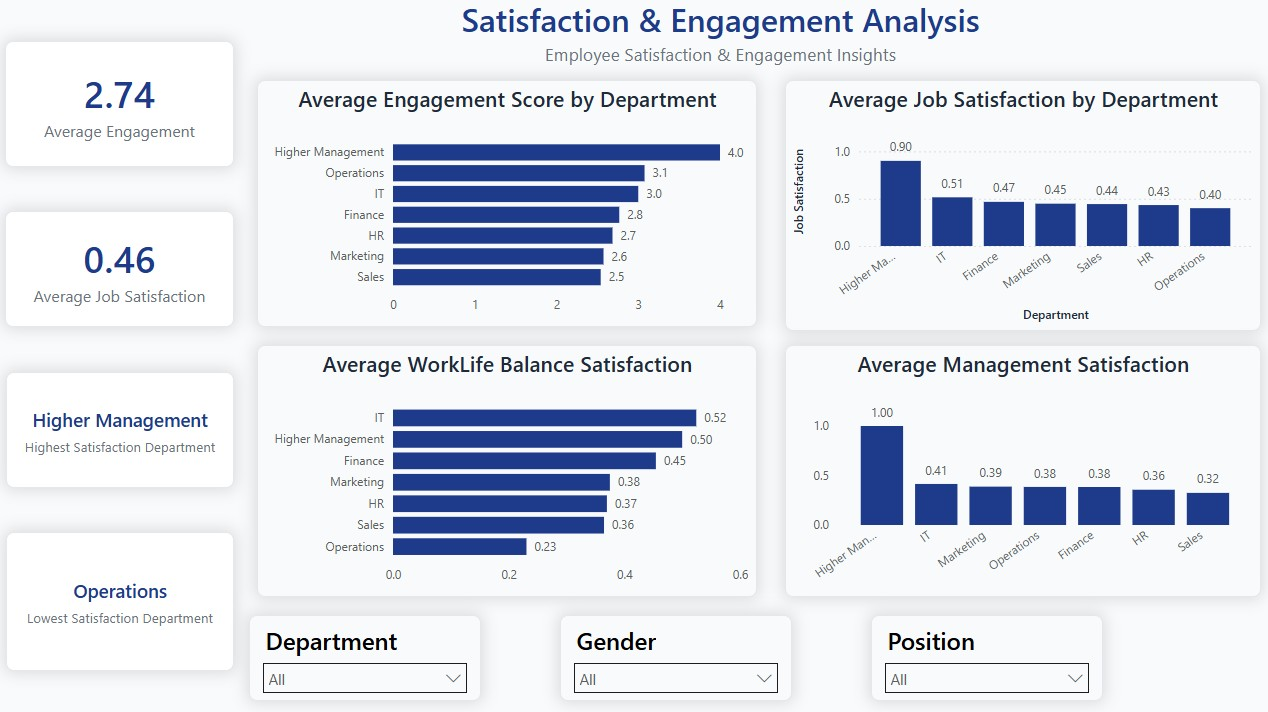

What the dashboard file says about the page in this screenshot:
{"tool":"powerbi","page":{"name":"Satisfaction & Engagement Analysis","canvas":[1280,720],"ordinal":3},"visuals":[{"type":"textbox","title":"Satisfaction & Engagement Analysis","box":[434,0,584,91],"z":0},{"type":"card","fields":{"Values":["hr_data_cleaned.Average Engagement"]},"box":[10,44,229,126],"z":1000},{"type":"card","fields":{"Values":["hr_data_cleaned.Average Job Satisfaction"]},"box":[10,214.3,229,116],"z":2000},{"type":"card","fields":{"Values":["hr_data_cleaned.Highest JobSatisfaction"]},"box":[11,374.7,228,116],"z":3000},{"type":"card","fields":{"Values":["hr_data_cleaned.Lowest Satisfaction Department"]},"box":[11,535,228,139],"z":4000},{"type":"clusteredBarChart","title":"Average Engagement Score by Department","fields":{"Category":["hr_analytics hr_data_cleaned.Department"],"Y":["hr_data_cleaned.Average Engagement"]},"box":[262,83,500,247],"z":5000},{"type":"clusteredColumnChart","title":"Average Job Satisfaction by Department","fields":{"Category":["hr_data_cleaned.Department"],"Y":["hr_data_cleaned.Average Job Satisfaction"]},"box":[790,83,476,251],"z":6000},{"type":"clusteredBarChart","title":"Average WorkLife Balance Satisfaction","fields":{"Category":["hr_data_cleaned.Department"],"Y":["hr_data_cleaned.Average WorkLife Satisfaction"]},"box":[262,348,500,252],"z":7000},{"type":"clusteredColumnChart","title":"Average Management Satisfaction","fields":{"Category":["hr_data_cleaned.Department"],"Y":["hr_data_cleaned.Avg Managment Satisfaction"]},"box":[790,348,476,252],"z":8000},{"type":"slicer","fields":{"Values":["hr_analytics hr_data_cleaned.Department"]},"box":[253.9,617.5,232.1,86.1],"z":9000},{"type":"slicer","fields":{"Values":["hr_analytics hr_data_cleaned.Gender"]},"box":[564.9,617.5,232.1,86.1],"z":10000},{"type":"slicer","fields":{"Values":["hr_analytics hr_data_cleaned.Position"]},"box":[876,617.5,232.1,86.1],"z":11000}]}

Visuals, with their boxes in screenshot pixels (x1, y1, x2, y2), scaled from the page's 1280x720 canvas onto the 1268x712 screenshot:
"Satisfaction & Engagement Analysis" textbox: crop(430, 0, 1008, 90)
card - hr_data_cleaned.Average Engagement: crop(10, 44, 237, 168)
card - hr_data_cleaned.Average Job Satisfaction: crop(10, 212, 237, 327)
card - hr_data_cleaned.Highest JobSatisfaction: crop(11, 371, 237, 485)
card - hr_data_cleaned.Lowest Satisfaction Department: crop(11, 529, 237, 667)
"Average Engagement Score by Department" clusteredBarChart: crop(260, 82, 755, 326)
"Average Job Satisfaction by Department" clusteredColumnChart: crop(783, 82, 1254, 330)
"Average WorkLife Balance Satisfaction" clusteredBarChart: crop(260, 344, 755, 593)
"Average Management Satisfaction" clusteredColumnChart: crop(783, 344, 1254, 593)
slicer - hr_analytics hr_data_cleaned.Department: crop(252, 611, 481, 696)
slicer - hr_analytics hr_data_cleaned.Gender: crop(560, 611, 790, 696)
slicer - hr_analytics hr_data_cleaned.Position: crop(868, 611, 1098, 696)
